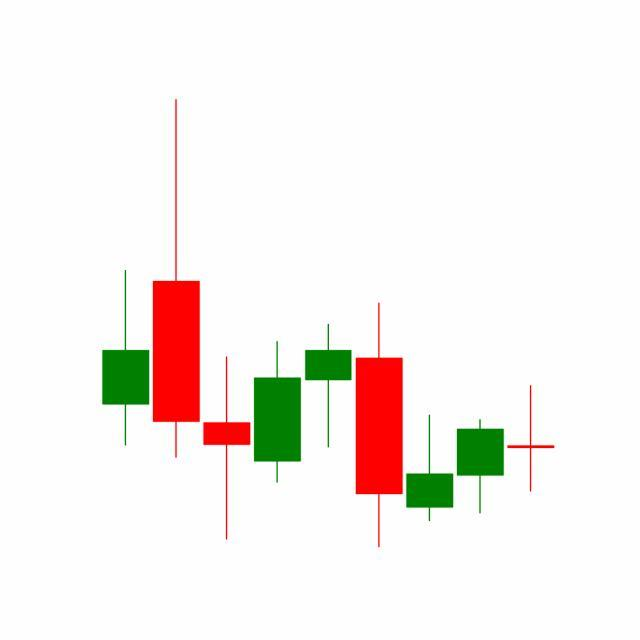Hikkake Pattern: (302, 299, 555, 549)
